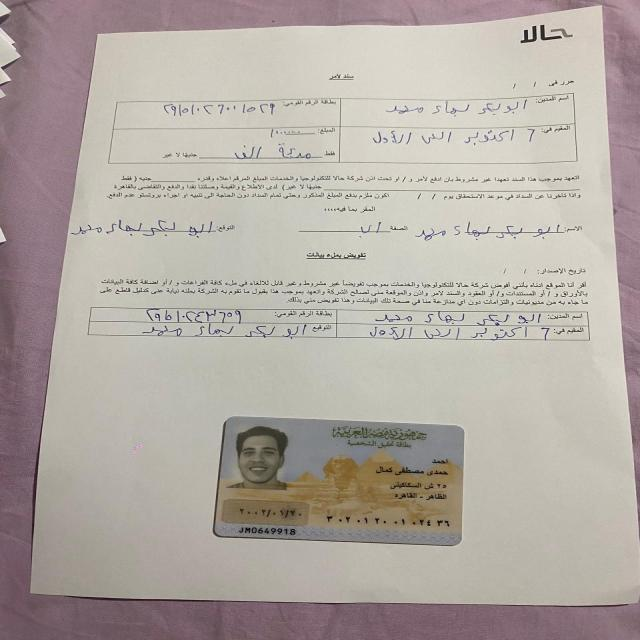id_card: (201, 411, 476, 552)
